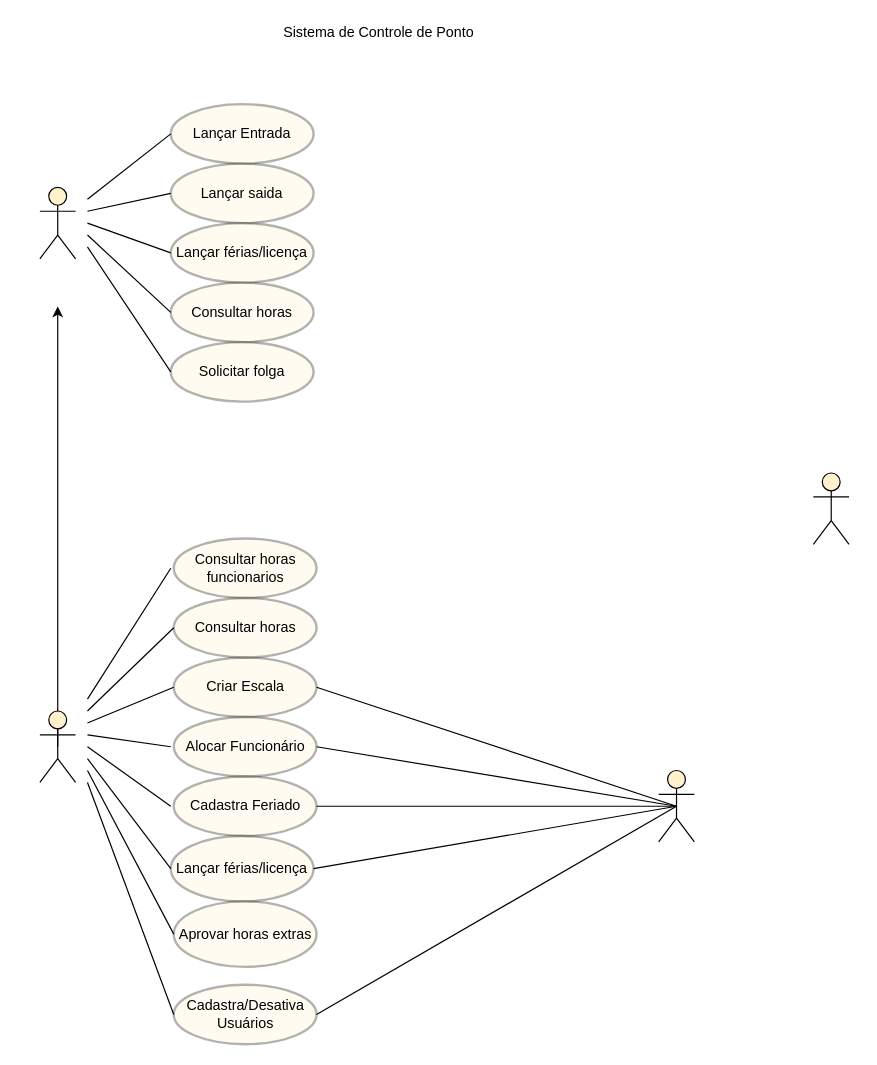
Some shapes in this 877 by 1065 pixel diagram are drawn without their labels. The centre of each missing label's shape, as x and y in pixels:
"Funcionário" goes at point 57,222.
"Gestor" goes at point 57,746.
"Sistema" goes at point 830,508.
"SubGestor" goes at point 675,805.
